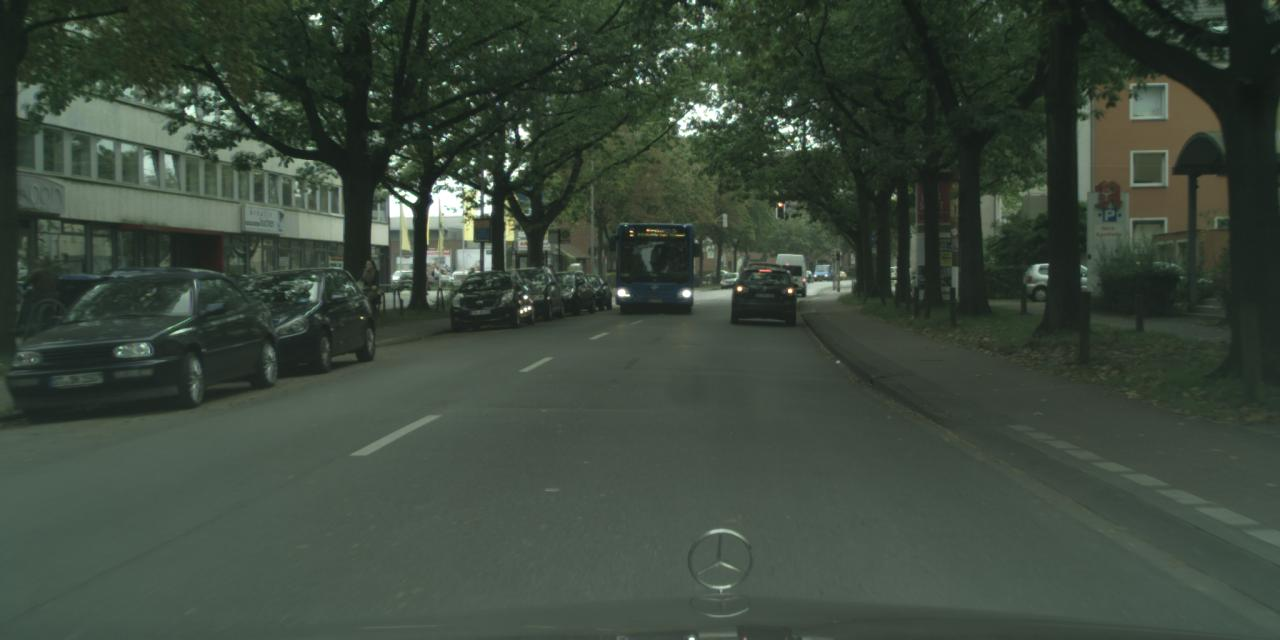ped: (356, 259, 381, 324)
